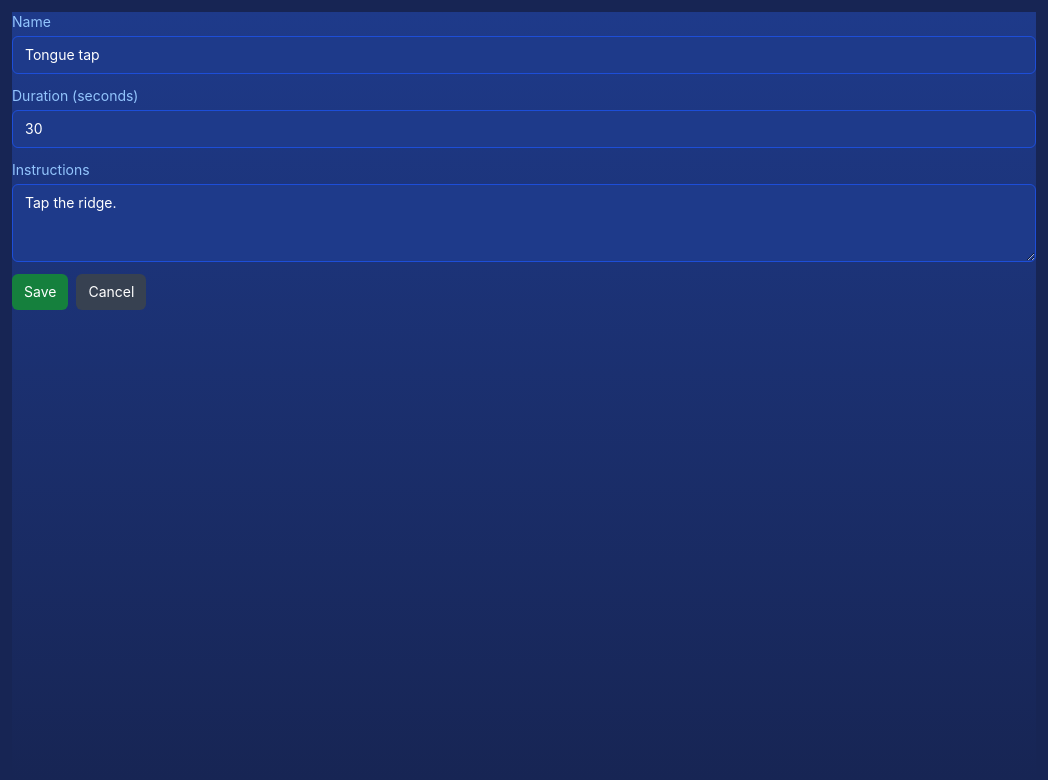
Scenario: EditExerciseForm › rejects a fractional duration instead of truncating it
The image size is (1048, 780).
Replace the text in the number field labelled "Duration (seconds)" with "5.9". click: x=524, y=129
box: [12,110,1036,148]
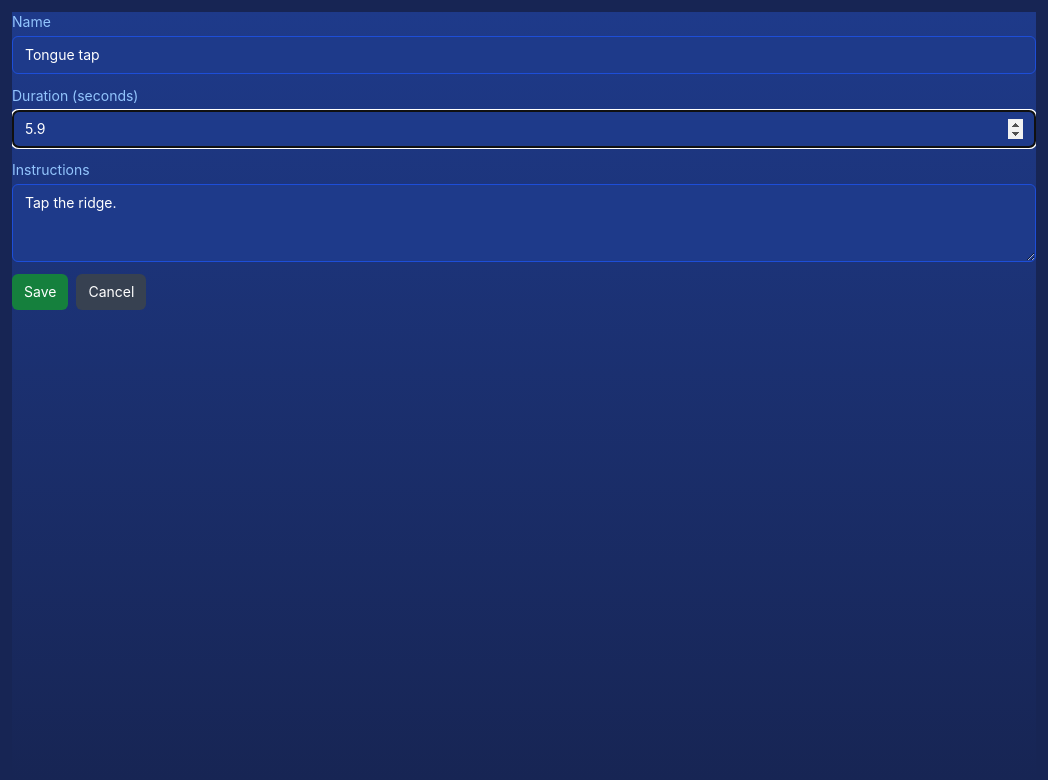
Click the button "Save". click: x=40, y=292
box: [12,274,68,310]
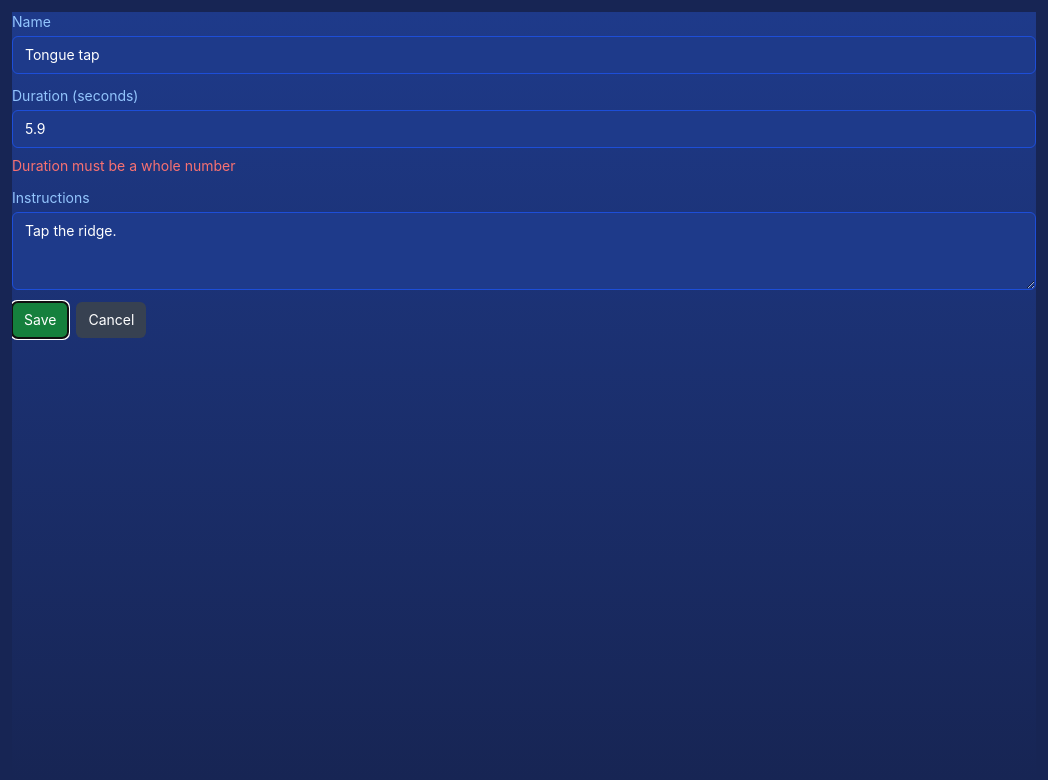
Expected: the message shows "whole number", [12,157,236,174]
